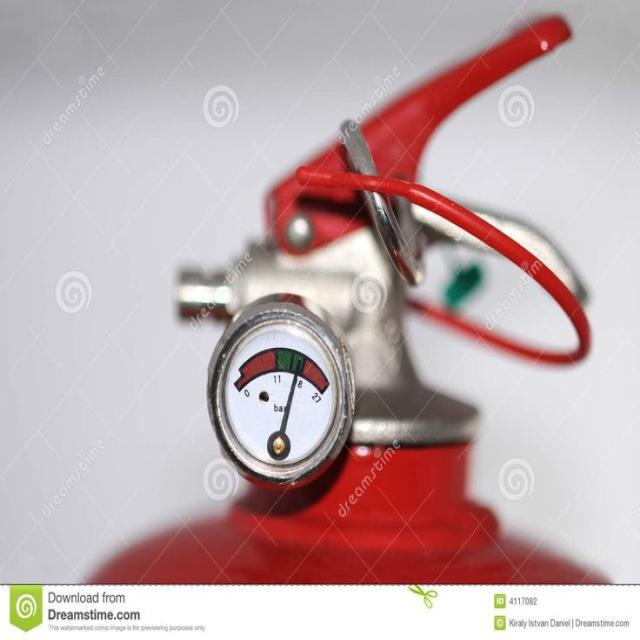pressure gauge: (209, 304, 351, 483)
